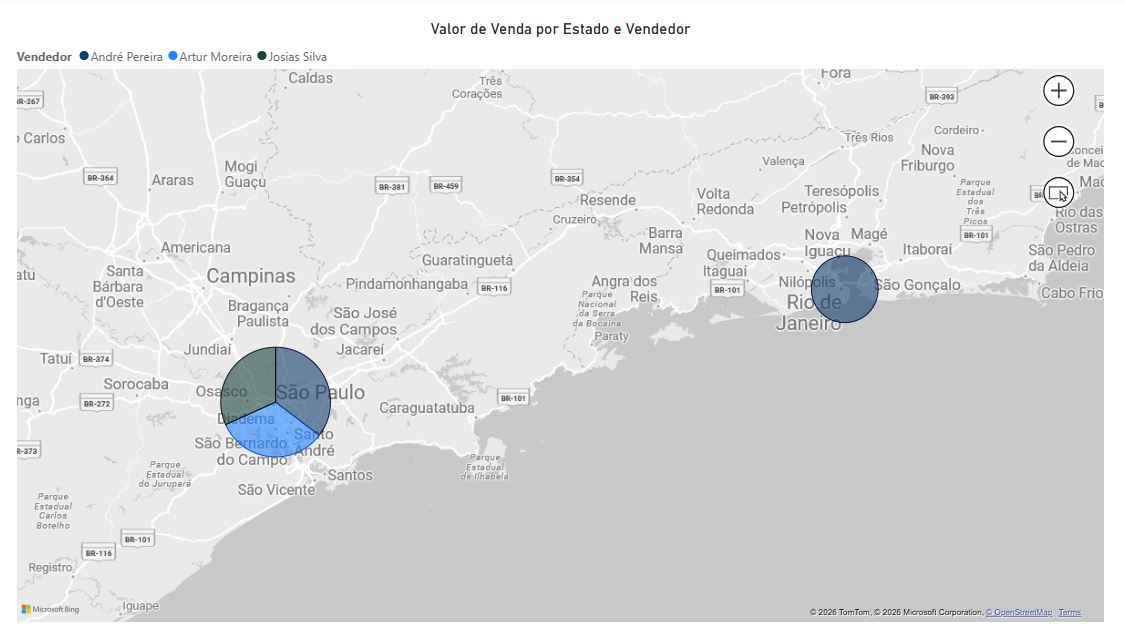

Layout of this report page (visuals, bound fields, positions):
{"tool":"powerbi","page":{"name":"Performace de Vendas Por Vendedores em Região","canvas":[1280,720],"ordinal":4},"visuals":[{"type":"map","title":"Valor de Venda por Estado e Vendedor","fields":{"Category":["Vendas.Estado"],"Series":["Vendas.Vendedor"],"Size":["Sum(Vendas.ValorVenda)"]},"box":[39.8,26.1,1203.4,666.9],"z":0}]}

Visuals, with their boxes in screenshot pixels (x1, y1, x2, y2), scaled from the page's 1280x720 canvas onto the 1125x638 screenshot:
"Valor de Venda por Estado e Vendedor" map: {"x1": 35, "y1": 23, "x2": 1093, "y2": 614}
